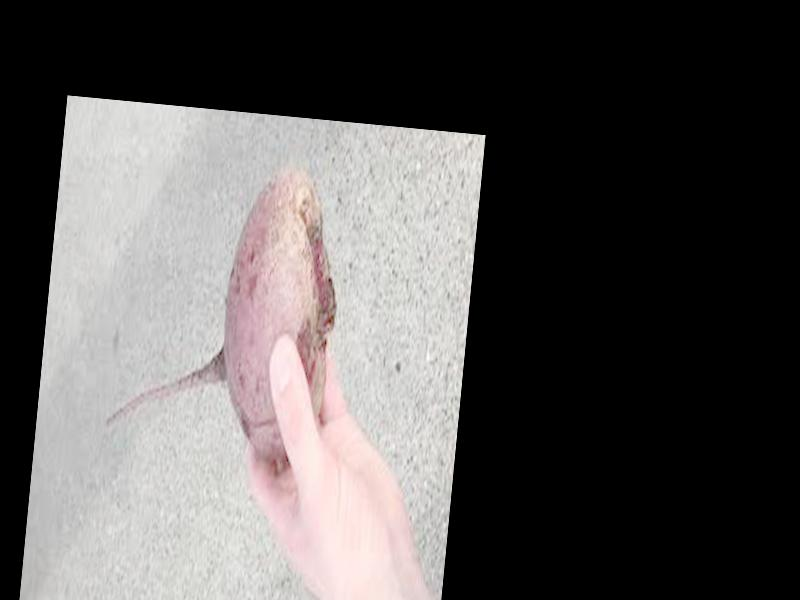Beet: (105, 154, 348, 457)
